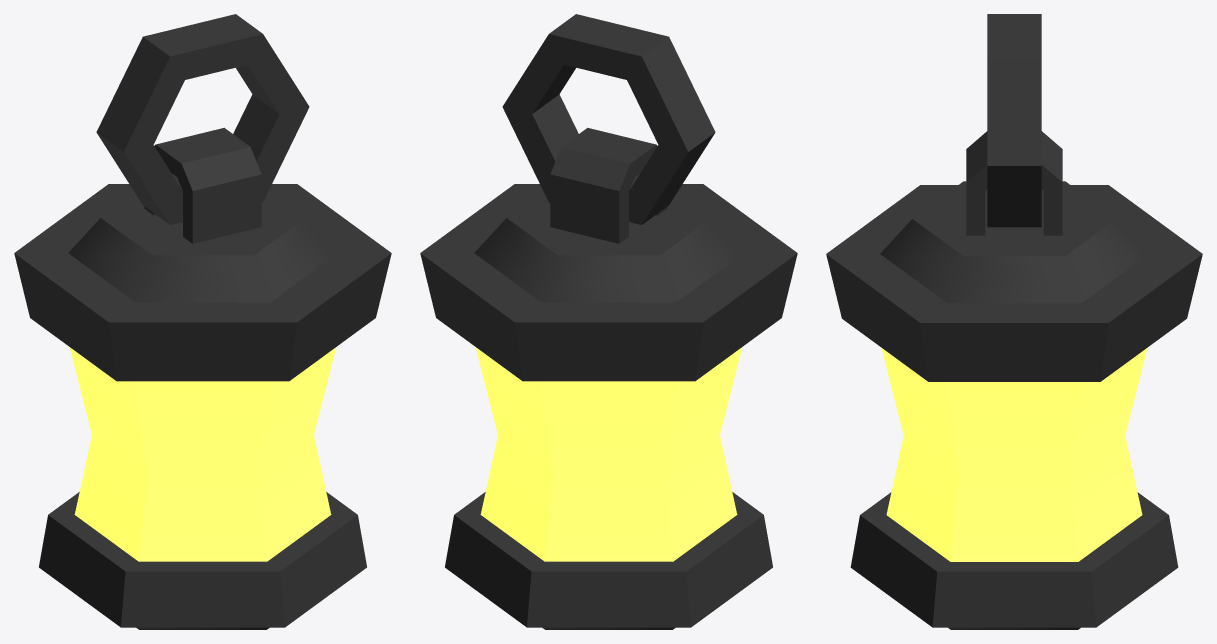
The model's file is SM_PROP_lantern_02.FBX.
3 renders of one model, left to right at view 1: azimuth 30°, elevation 25°; view 2: azimuth 150°, elevation 25°; view 3: azimuth 270°, elevation 25°, orthographic.
Parts seen in each view (by area): view 1: SM_PROP_lantern_02; view 2: SM_PROP_lantern_02; view 3: SM_PROP_lantern_02.
Boxes of the visible parts, x1,y1,x2,y2 form: SM_PROP_lantern_02: (14,14,391,629); SM_PROP_lantern_02: (420,14,797,629); SM_PROP_lantern_02: (826,14,1202,629).
Size of the model in its own units: 50.77 by 58.63 by 93.9.
